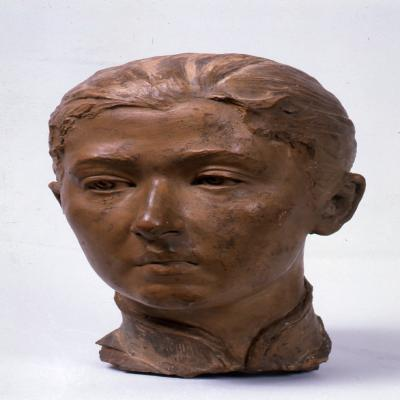sculpture: (48, 53, 366, 380)
